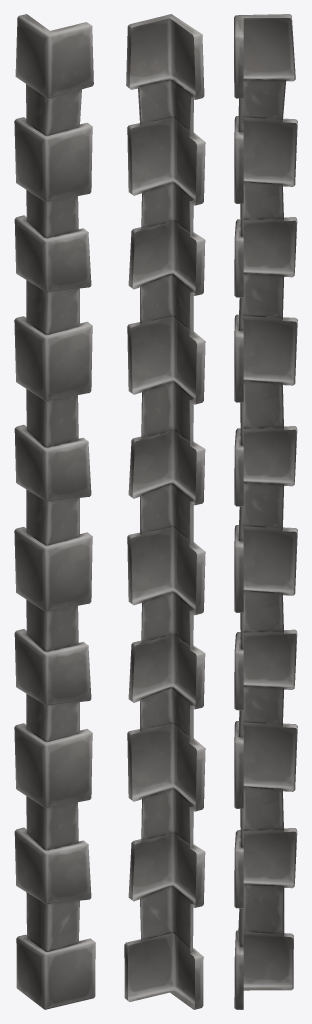
Rendered from PropTrimFacade01_5.FBX.
The picture shows the model from 3 angles, left to right: view 1: azimuth 30°, elevation 25°; view 2: azimuth 210°, elevation 25°; view 3: azimuth 270°, elevation 25°; orthographic projection.
Visible parts, largest first — view 1: PropTrimFacade01_5; view 2: PropTrimFacade01_5; view 3: PropTrimFacade01_5.
Part boxes in pixels (x1=…): PropTrimFacade01_5: x1=14, y1=14, x2=95, y2=1009; PropTrimFacade01_5: x1=124, y1=14, x2=205, y2=1009; PropTrimFacade01_5: x1=234, y1=14, x2=297, y2=1009.
Size of what is drawn, in the model's own units: 0.1951 by 3.5 by 0.2083.
